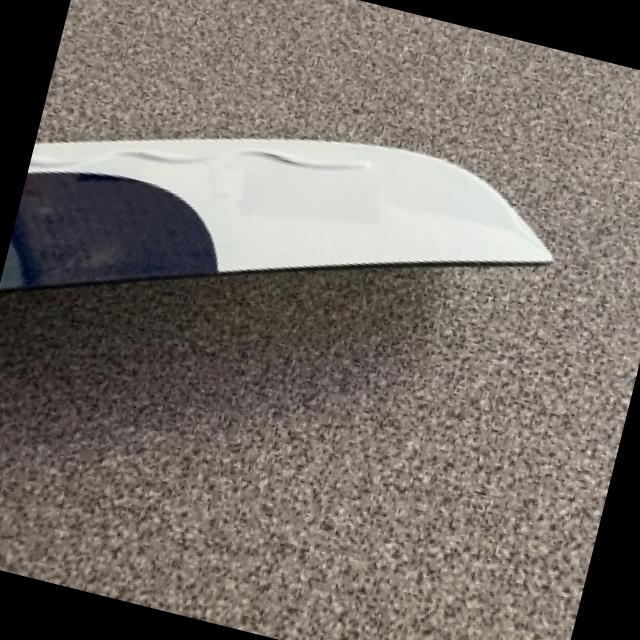healthy: (1, 136, 553, 285)
